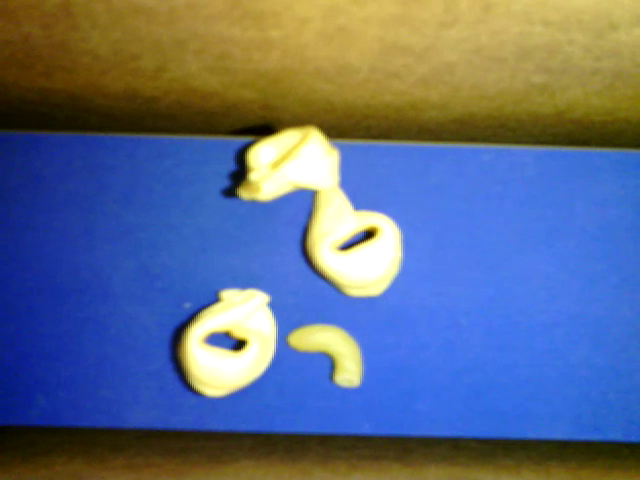elbow: (286, 323, 364, 388)
tortellini: (304, 185, 404, 297), (177, 289, 278, 398), (235, 125, 340, 203)
